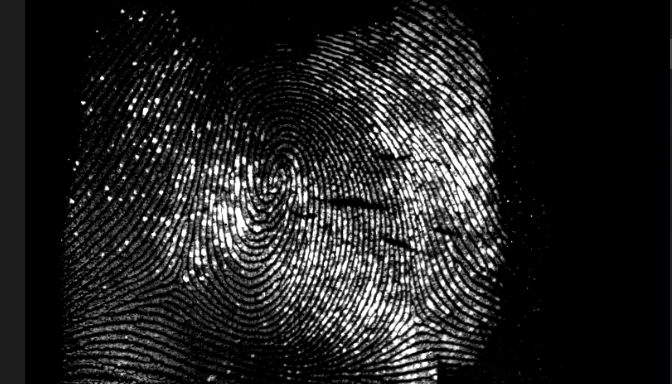nucelo: (262, 157, 289, 201)
verticilo: (395, 304, 436, 331), (157, 264, 193, 294)
